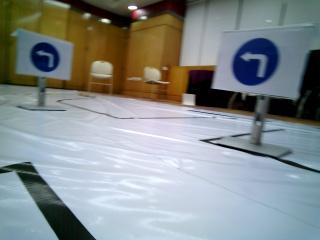left: (226, 36, 291, 89), (22, 43, 66, 78)
